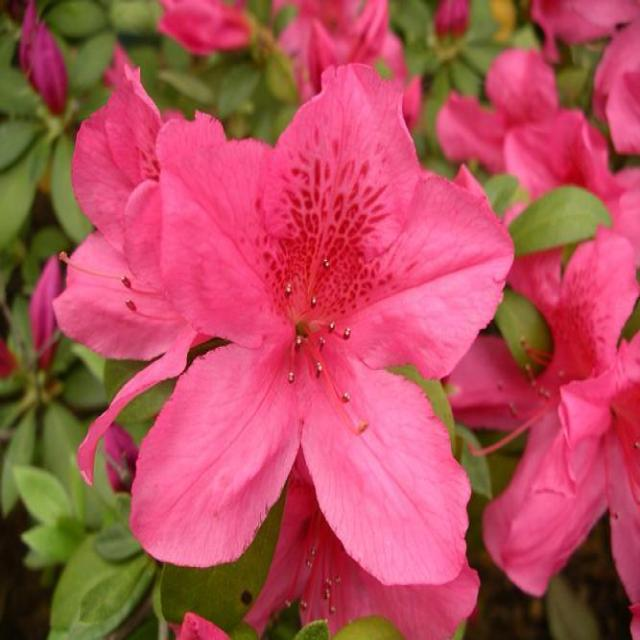azalea: (144, 86, 497, 591)
